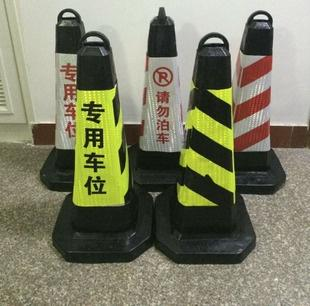cone_barrel: (167, 35, 247, 244), (63, 30, 141, 237), (131, 12, 187, 178), (225, 22, 282, 180), (43, 2, 85, 179)
